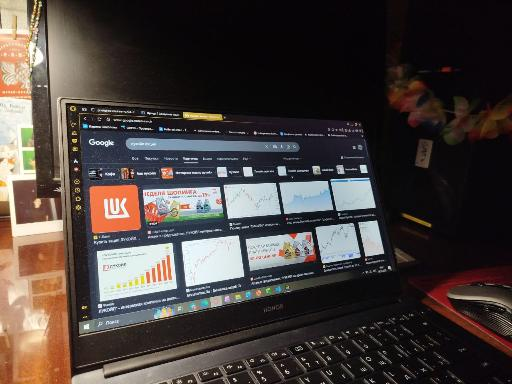google: (85, 131, 381, 310)
